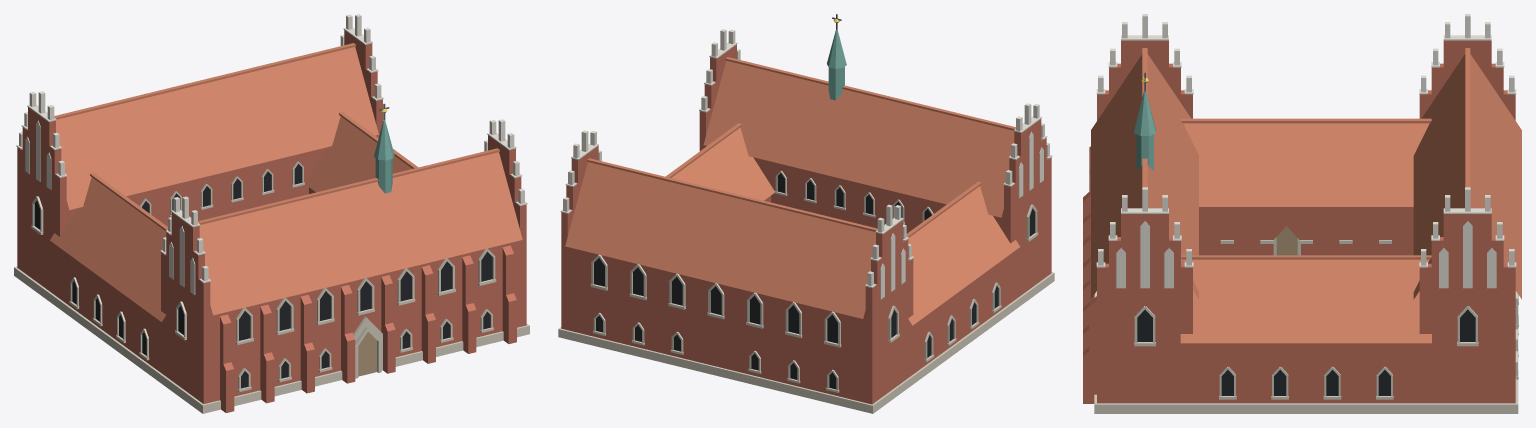
File: monastery_cloister.glb
3 views of the same model, side by side, from view 1: azimuth 30°, elevation 25°; view 2: azimuth 150°, elevation 25°; view 3: azimuth 270°, elevation 25° (orthographic). The views are drawn at different scales.
Visible parts, largest first — view 1: MonasteryCloister; view 2: MonasteryCloister; view 3: MonasteryCloister.
Boxes of the visible parts, x1,y1,x2,y2 form: MonasteryCloister: (14, 14, 529, 413); MonasteryCloister: (558, 14, 1054, 413); MonasteryCloister: (1083, 14, 1521, 413).
Size of the model in its own units: 24.7 by 17.3 by 25.15.
